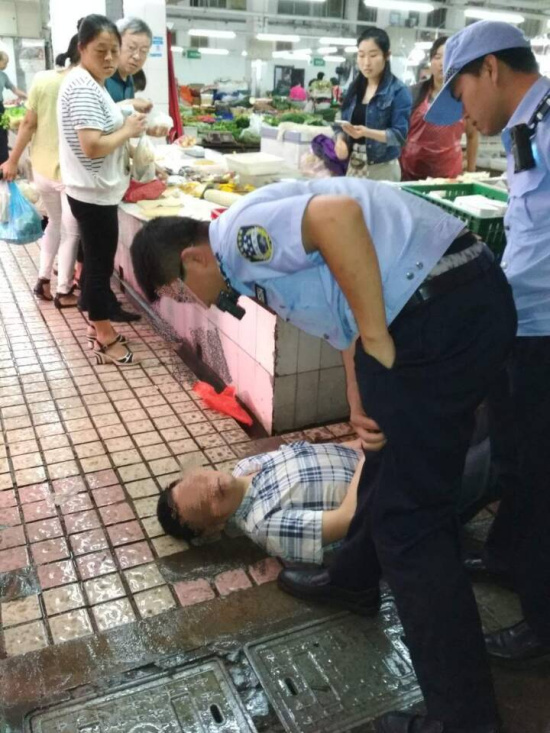fall: (140, 396, 534, 719)
